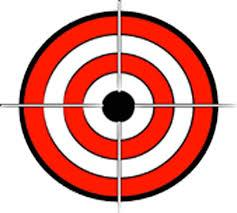target_red: (17, 7, 219, 202)
